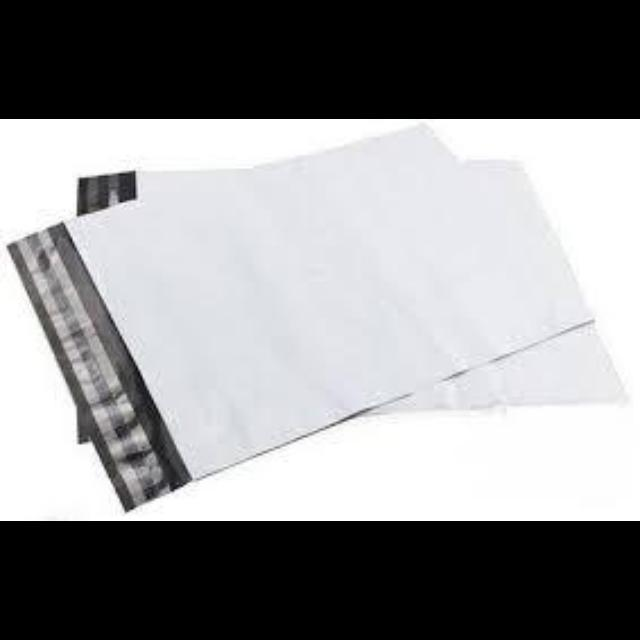mailer: (5, 122, 593, 510)
